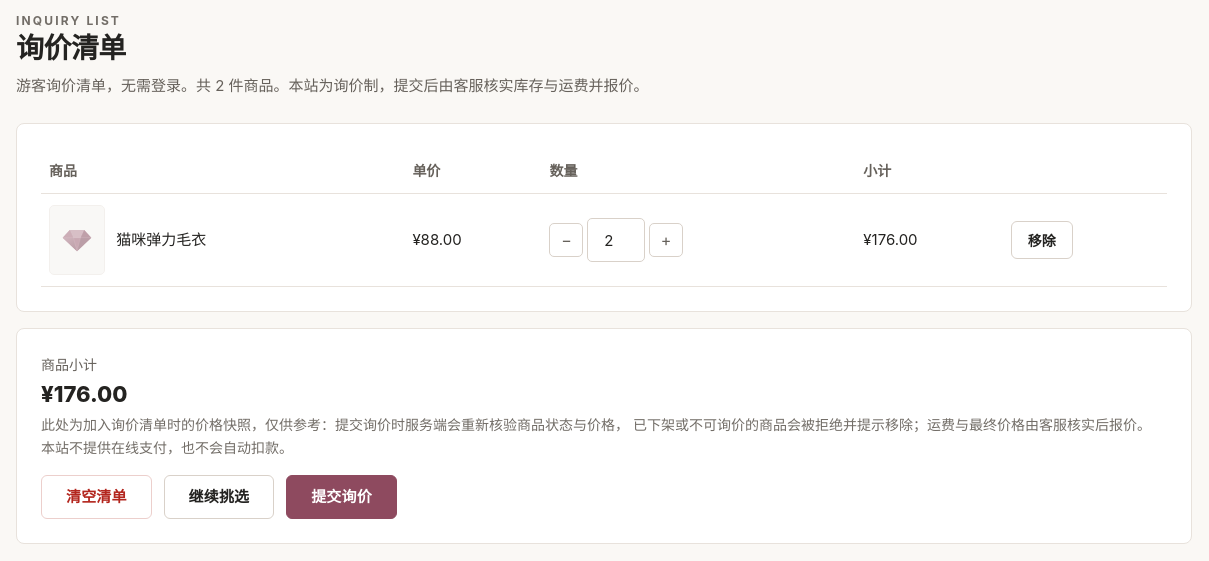
Test case: CartPage（购物车） › 超过上限的数量被夹到 99 并回显
Replace the text in the number field named "猫咪弹力毛衣 数量" with "500" at (616, 240), box x1=588 y1=218 x2=645 y2=262
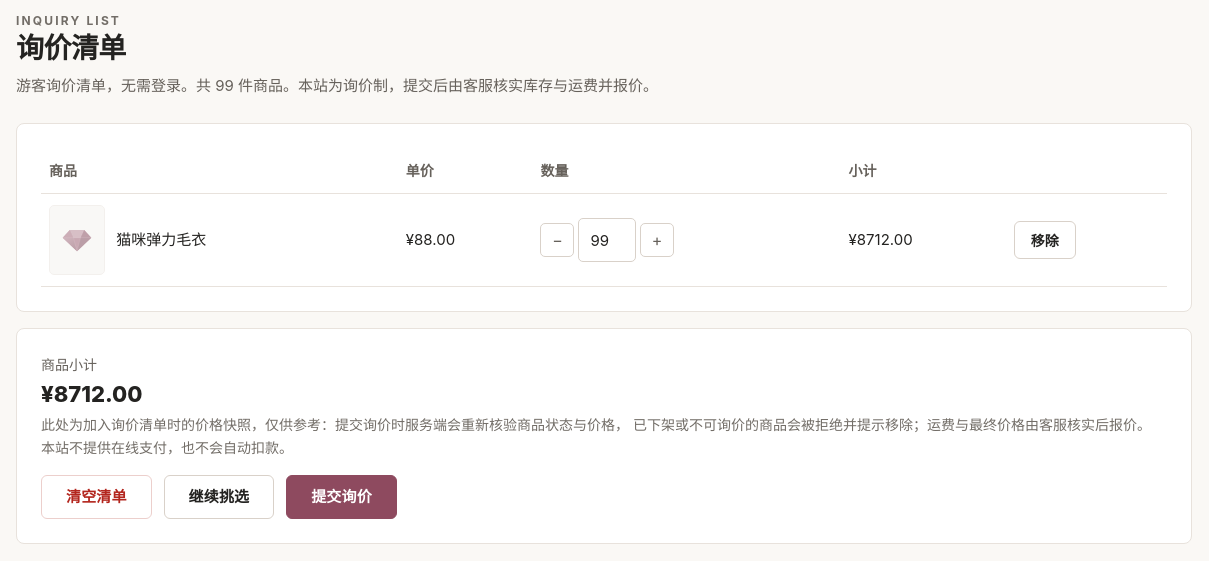
Expected: the number field named "猫咪弹力毛衣 数量" holds "99", x1=578 y1=218 x2=636 y2=262
